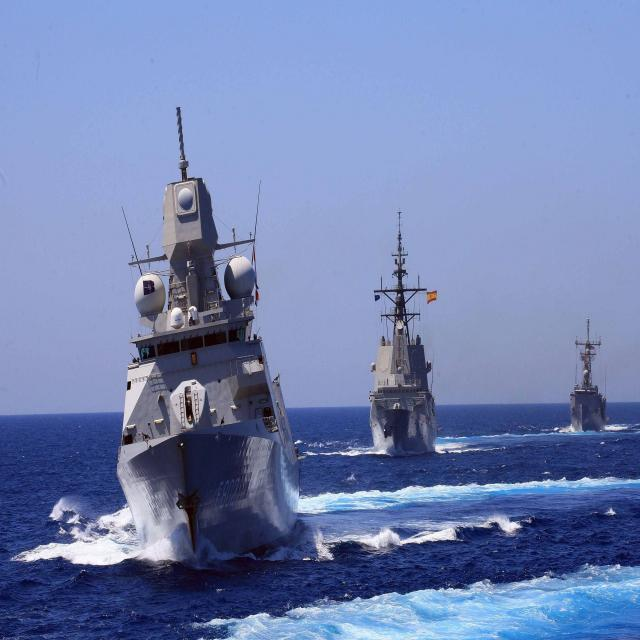navalvessels: (102, 117, 298, 558), (337, 228, 441, 450), (555, 318, 620, 436)
